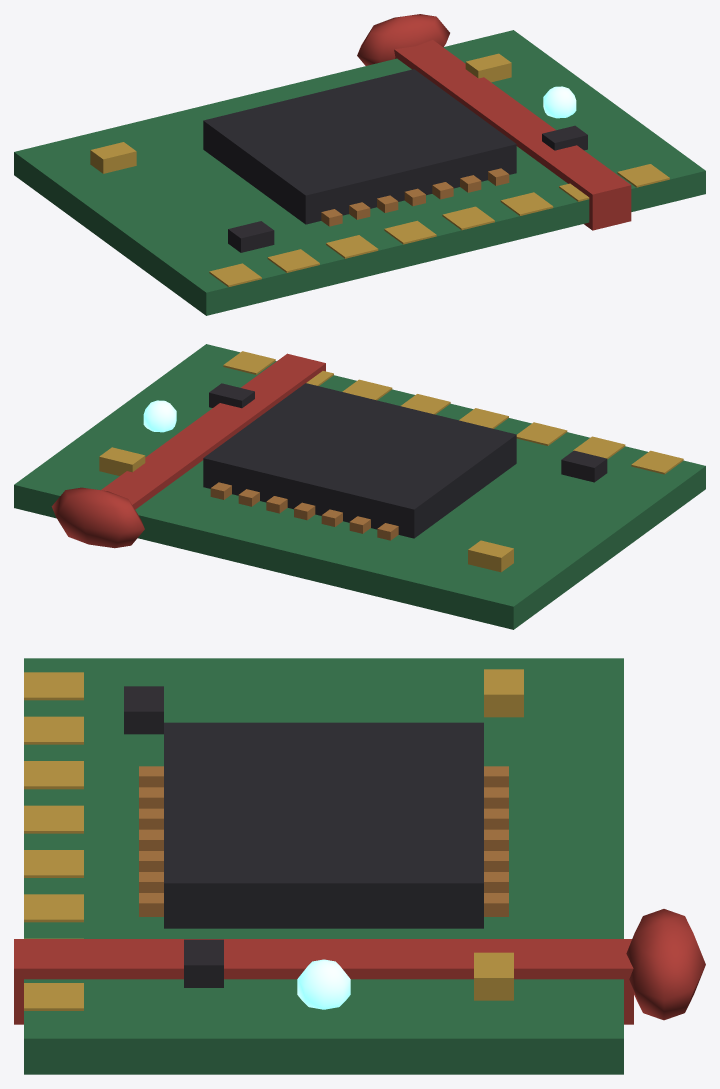
File: interlude_chip.glb
The picture shows the model from 3 angles, top to bottom: view 1: azimuth 30°, elevation 25°; view 2: azimuth 150°, elevation 25°; view 3: azimuth 270°, elevation 25°; orthographic projection. The views are drawn at different scales.
Parts seen in each view (by area): view 1: interlude_chip_vc, interlude_chip_vcd, interlude_chip_vc_detail, interlude_chip_vc_fine, interlude_chip_vcd_detail, interlude_chip_gate_fine; view 2: interlude_chip_vc, interlude_chip_vcd, interlude_chip_vc_detail, interlude_chip_vc_fine, interlude_chip_vcd_detail, interlude_chip_gate_fine; view 3: interlude_chip_vc, interlude_chip_vcd, interlude_chip_vc_detail, interlude_chip_vc_fine, interlude_chip_vcd_detail, interlude_chip_gate_fine.
Boxes of the visible parts, <box> form: interlude_chip_vc: <box>14,30,705,315</box>; interlude_chip_vcd: <box>203,69,516,224</box>; interlude_chip_vc_detail: <box>90,14,631,230</box>; interlude_chip_vc_fine: <box>209,164,669,287</box>; interlude_chip_vcd_detail: <box>228,125,587,252</box>; interlude_chip_gate_fine: <box>543,86,576,118</box>; interlude_chip_vc: <box>14,344,705,629</box>; interlude_chip_vcd: <box>203,383,516,538</box>; interlude_chip_vc_detail: <box>51,353,513,572</box>; interlude_chip_vc_fine: <box>223,351,683,474</box>; interlude_chip_vcd_detail: <box>209,383,607,482</box>; interlude_chip_gate_fine: <box>143,400,176,432</box>; interlude_chip_vc: <box>24,658,623,1074</box>; interlude_chip_vcd: <box>164,722,483,928</box>; interlude_chip_vc_detail: <box>14,669,705,1024</box>; interlude_chip_vc_fine: <box>24,672,83,1010</box>; interlude_chip_vcd_detail: <box>124,686,223,987</box>; interlude_chip_gate_fine: <box>297,959,350,1009</box>.
Bounding box in the file's own units: 0.09 × 0.01 × 0.0692.
